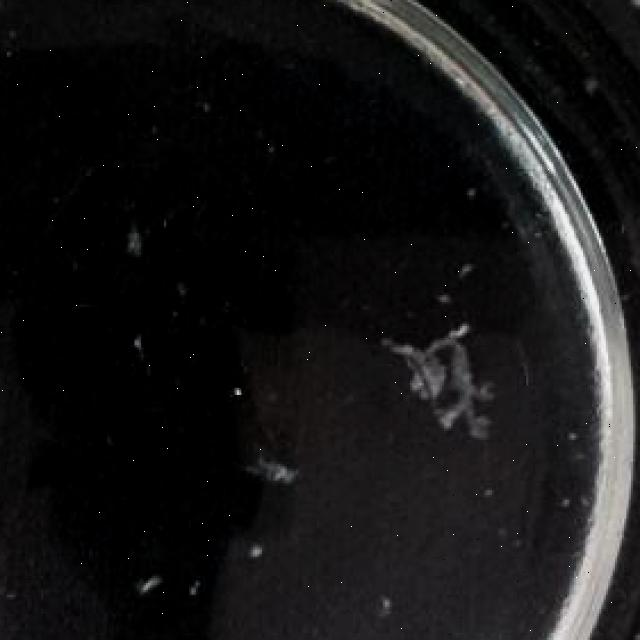Microplastic: (364, 288, 506, 464), (250, 426, 314, 500), (114, 552, 175, 623), (235, 528, 289, 576)
